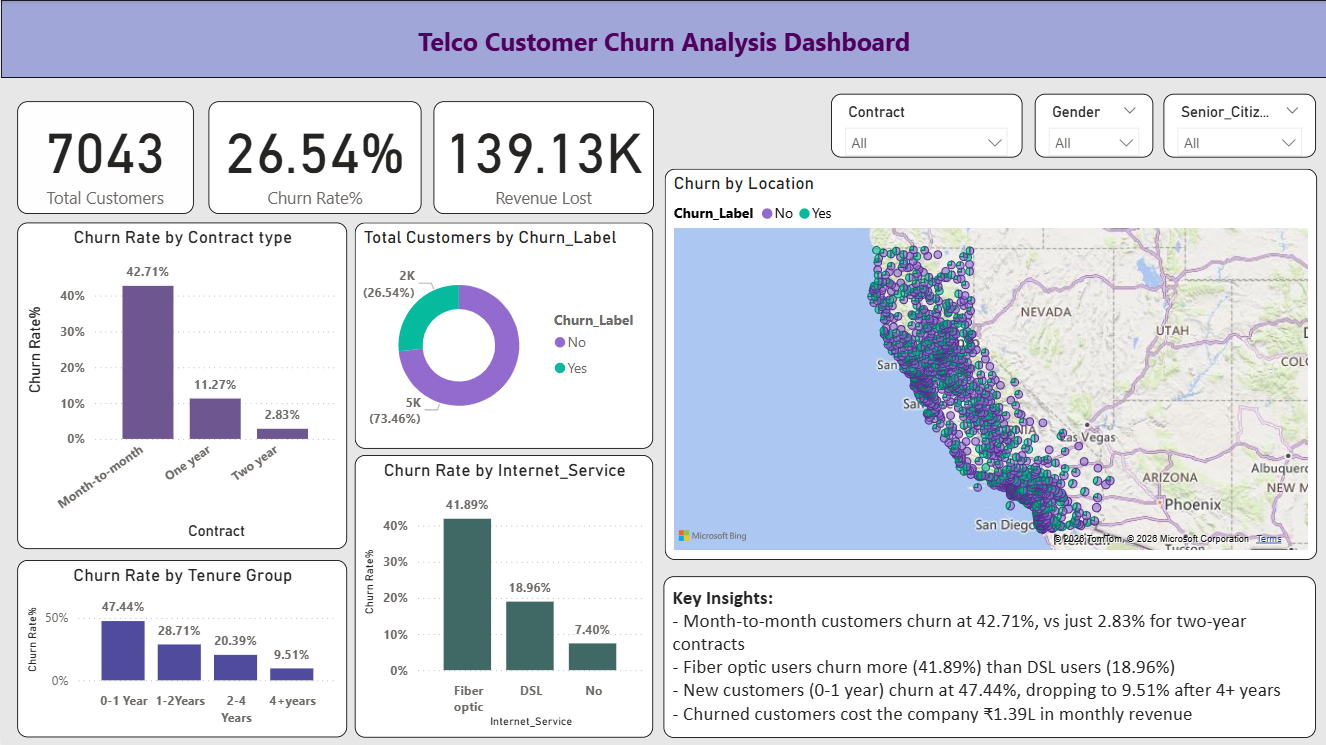

The page's visual inventory and layout, read from the dashboard file:
{"tool":"powerbi","page":{"name":"Page 1","canvas":[1280,720],"ordinal":0},"visuals":[{"type":"card","fields":{"Values":["Customers.Total Customers"]},"box":[15.7,97.7,170.1,108.6],"z":0},{"type":"card","fields":{"Values":["Customers.Churn Rate%"]},"box":[200,97.1,205.7,108.6],"z":1000},{"type":"card","fields":{"Values":["Customers.Revenue Lost"]},"box":[417.1,97.1,212.9,108.6],"z":2000},{"type":"clusteredColumnChart","title":"Churn Rate by Contract type","fields":{"Category":["Customers.Contract"],"Y":["Customers.Churn Rate%"]},"box":[15.7,214.7,318.5,314.9],"z":3000},{"type":"textbox","box":[0,0,1280.3,75.5],"z":4000},{"type":"clusteredColumnChart","title":"Churn Rate by Internet_Service","fields":{"Category":["Customers.Internet_Service"],"Y":["Customers.Churn Rate%"]},"box":[341.4,439.1,288.3,272.7],"z":5000},{"type":"clusteredColumnChart","title":"Churn Rate by Tenure Group","fields":{"Category":["Customers.Tenure Group"],"Y":["Customers.Churn Rate%"]},"box":[15.7,540.5,318.5,171.3],"z":6000},{"type":"textbox","box":[639.4,556.2,629.8,155.6],"z":7000},{"type":"donutChart","fields":{"Category":["Customers.Churn_Label"],"Y":["Customers.Total Customers"]},"box":[341.4,214.7,288.3,218.4],"z":8000},{"type":"map","title":"Churn by Location","fields":{"Y":["Customers.Latitude"],"X":["Customers.Longitude"],"Series":["Customers.Churn_Label"],"Size":["Customers.Total Customers"]},"box":[640.6,162.9,629.8,377.6],"z":9000},{"type":"slicer","fields":{"Values":["Customers.Contract"]},"box":[801.1,90.5,184.6,61.5],"z":10000},{"type":"slicer","fields":{"Values":["Customers.Gender"]},"box":[997.7,90.5,114.6,61.5],"z":11000},{"type":"slicer","fields":{"Values":["Customers.Senior_Citizen"]},"box":[1122,90.5,147.2,61.5],"z":12000}]}

Visuals, with their boxes in screenshot pixels (x1, y1, x2, y2), scaled from the page's 1280x720 canvas onto the 1326x745 screenshot:
card - Customers.Total Customers: <region>16, 101, 192, 213</region>
card - Customers.Churn Rate%: <region>207, 100, 420, 213</region>
card - Customers.Revenue Lost: <region>432, 100, 653, 213</region>
"Churn Rate by Contract type" clusteredColumnChart: <region>16, 222, 346, 548</region>
textbox: <region>0, 0, 1325, 78</region>
"Churn Rate by Internet_Service" clusteredColumnChart: <region>354, 454, 652, 737</region>
"Churn Rate by Tenure Group" clusteredColumnChart: <region>16, 559, 346, 737</region>
textbox: <region>662, 576, 1315, 737</region>
donutChart - Customers.Churn_Label x Customers.Total Customers: <region>354, 222, 652, 448</region>
"Churn by Location" map: <region>664, 169, 1316, 559</region>
slicer - Customers.Contract: <region>830, 94, 1021, 157</region>
slicer - Customers.Gender: <region>1034, 94, 1152, 157</region>
slicer - Customers.Senior_Citizen: <region>1162, 94, 1315, 157</region>
